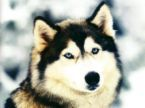dog: (31, 1, 127, 107)
